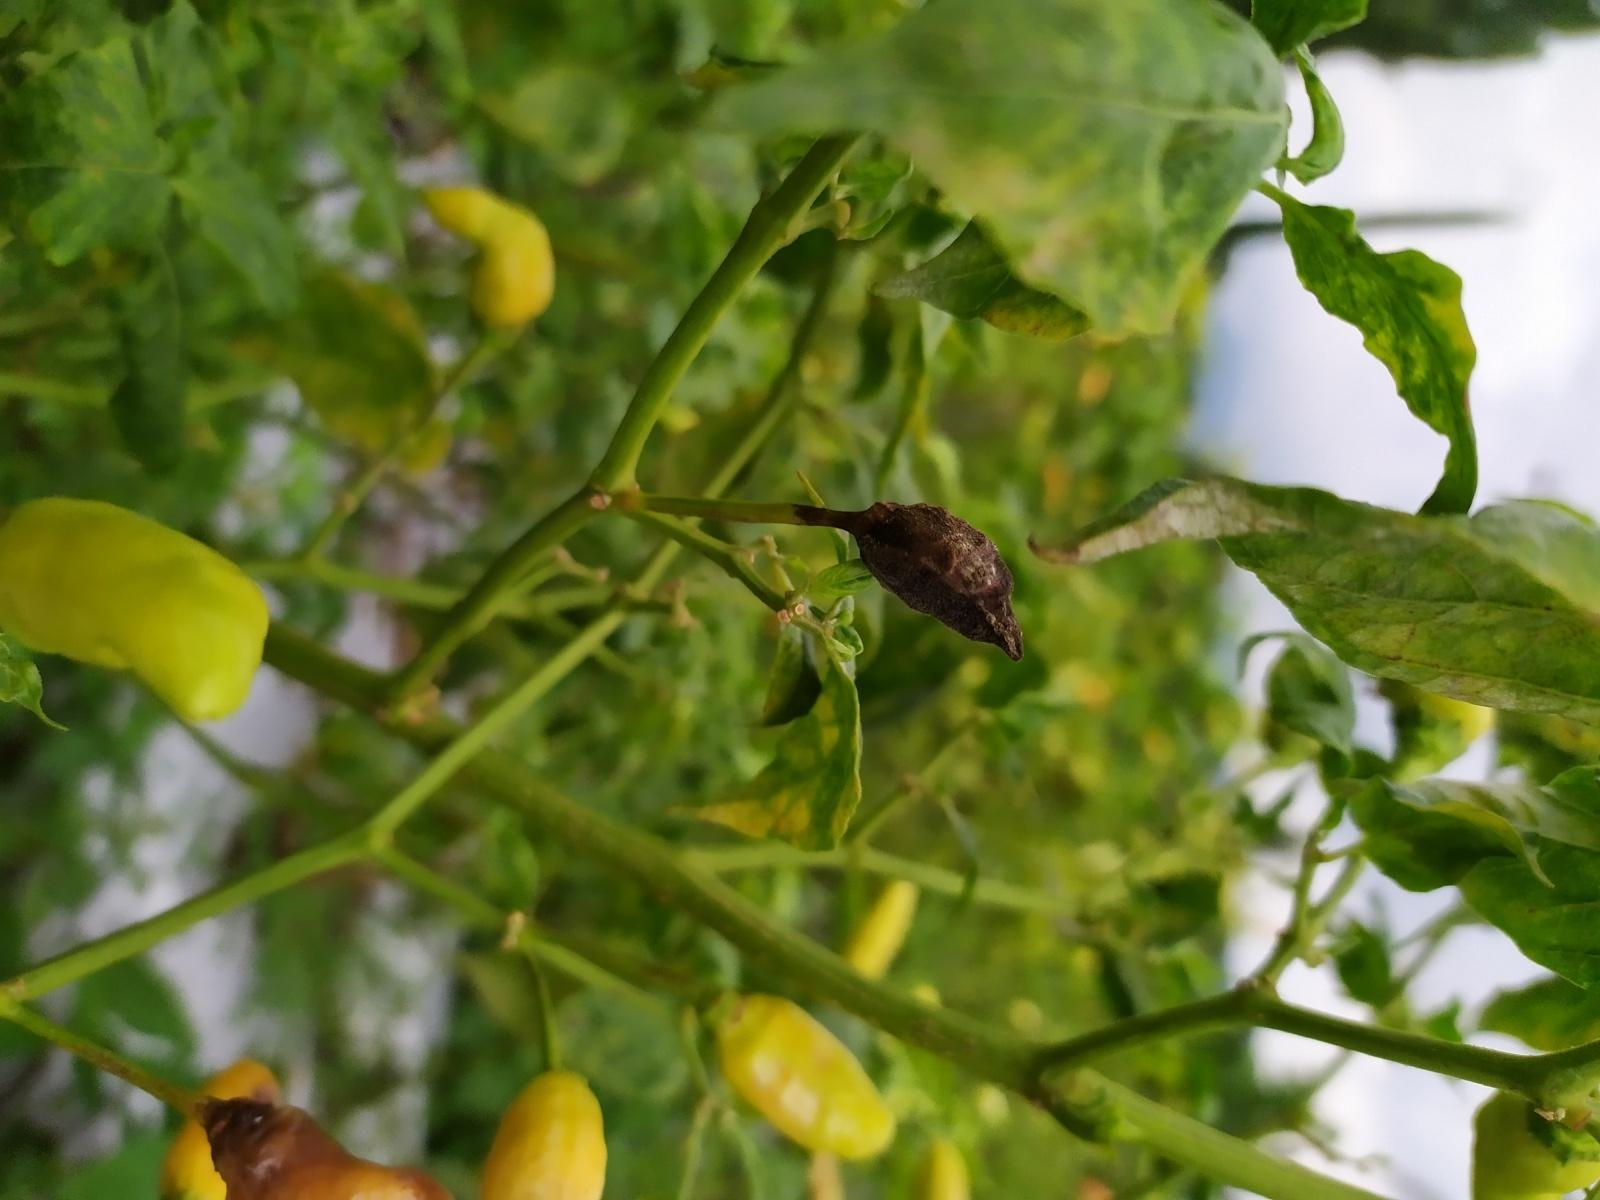antraknosa: (850, 500, 1022, 664)
cabai_normal: (1, 495, 271, 724), (713, 992, 898, 1163), (418, 185, 557, 330), (481, 1068, 615, 1200)
lalat_buah: (202, 1092, 452, 1200)
